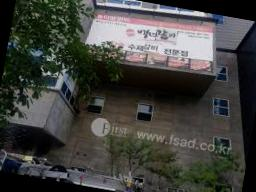galbi: (154, 28, 178, 46), (144, 42, 162, 56)
